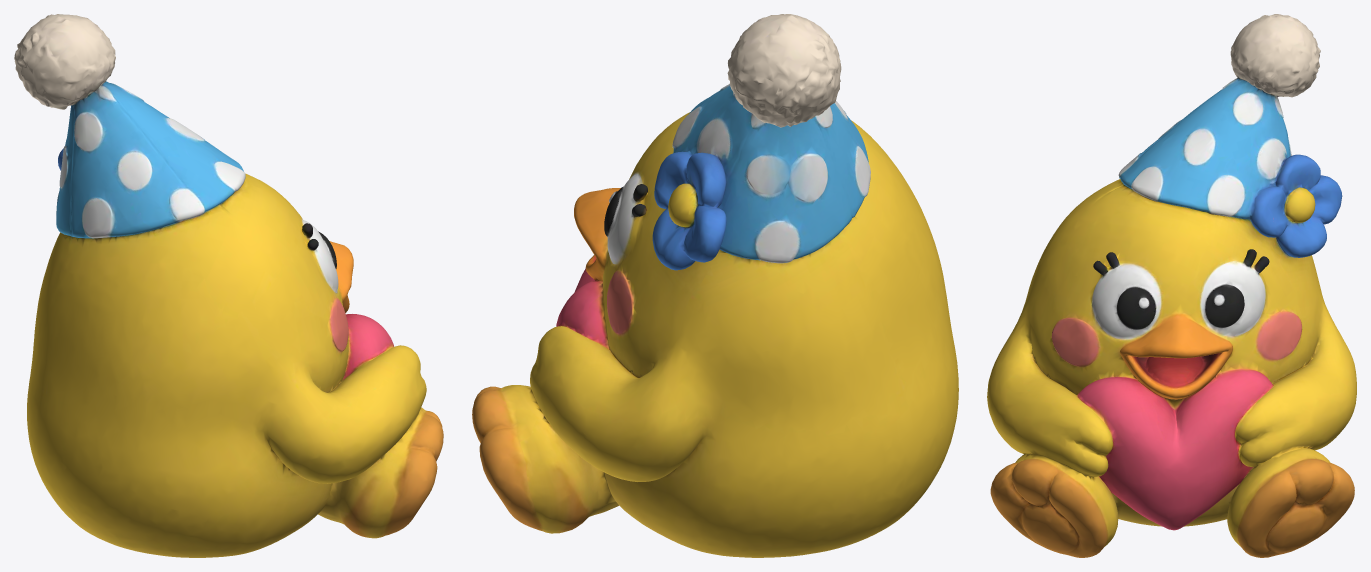
File: partywoni-plush.glb
3 renders of one model, left to right at view 1: azimuth 30°, elevation 25°; view 2: azimuth 150°, elevation 25°; view 3: azimuth 270°, elevation 25°, orthographic. The views are drawn at different scales.
Parts seen in each view (by area): view 1: tripo_node_1555f77d-df14-4ea0-854a-b225f743e512; view 2: tripo_node_1555f77d-df14-4ea0-854a-b225f743e512; view 3: tripo_node_1555f77d-df14-4ea0-854a-b225f743e512.
Part boxes in pixels (x1=…): tripo_node_1555f77d-df14-4ea0-854a-b225f743e512: x1=14, y1=14, x2=443, y2=557; tripo_node_1555f77d-df14-4ea0-854a-b225f743e512: x1=472, y1=14, x2=958, y2=557; tripo_node_1555f77d-df14-4ea0-854a-b225f743e512: x1=987, y1=14, x2=1356, y2=557.
Bounding box in the file's own units: 0.7258 × 1 × 0.7599.
Materials: 1 (1 with a texture image).
